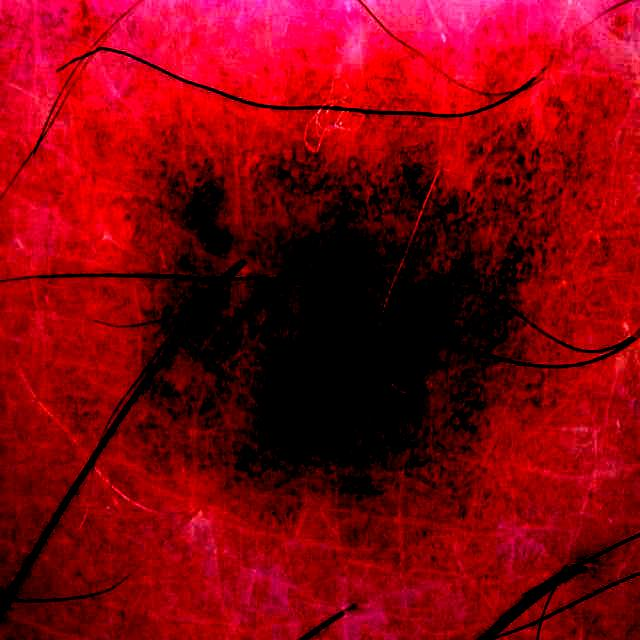NV: (171, 114, 594, 493)
